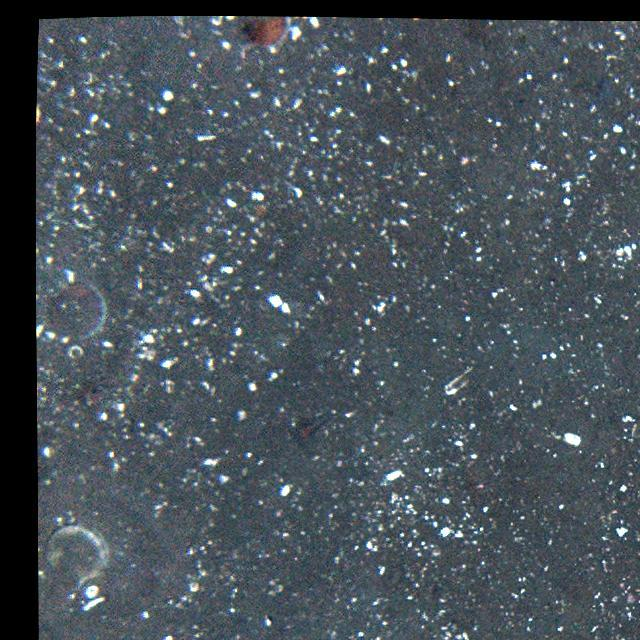scallop: (242, 18, 290, 48)
